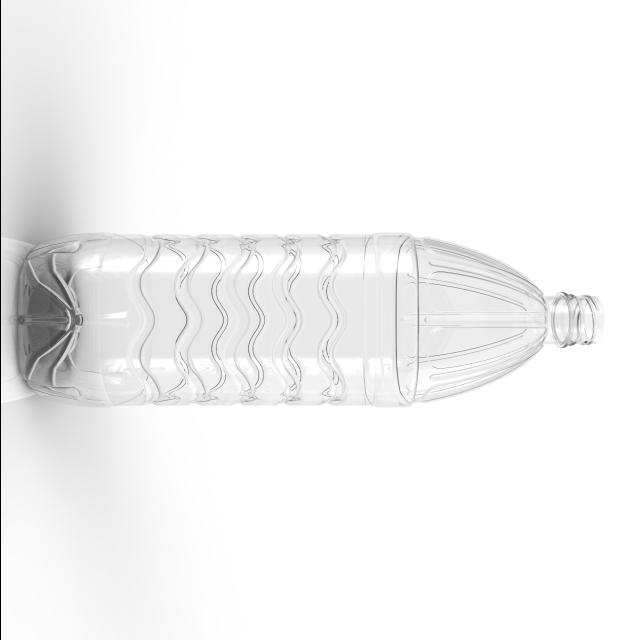bottle: (16, 233, 600, 406)
